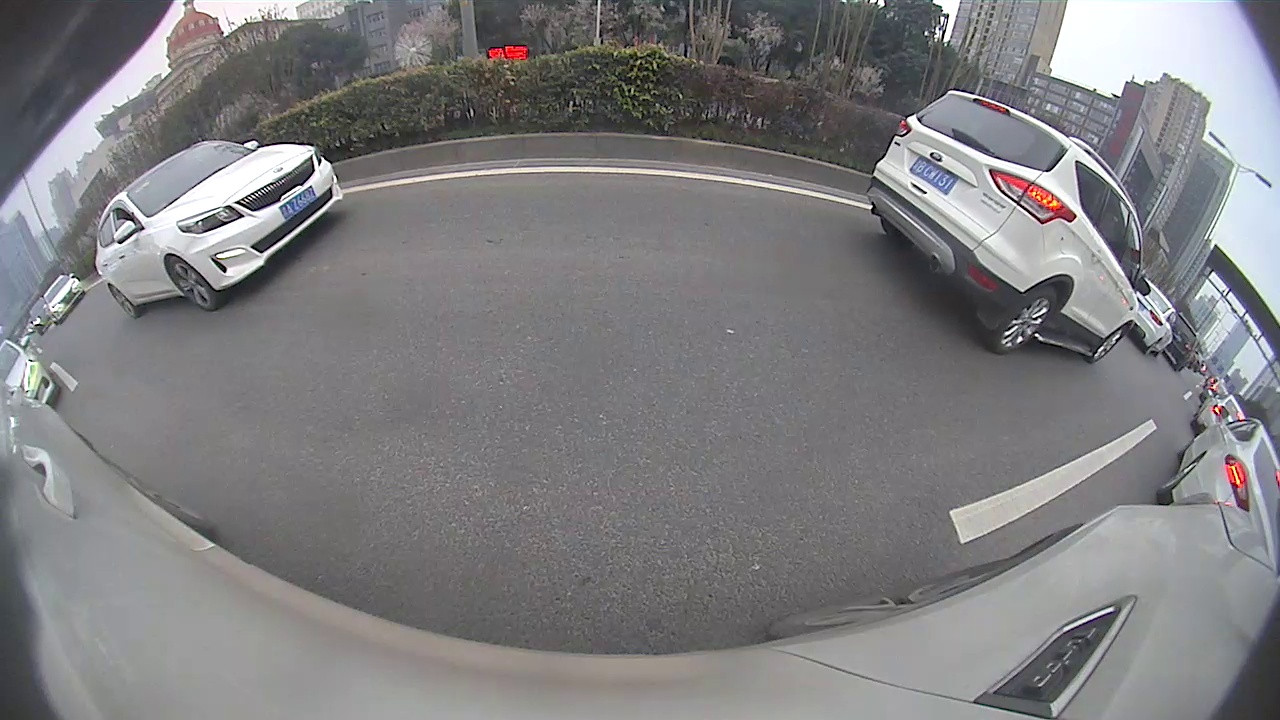car: (863, 85, 1154, 367), (91, 136, 345, 319), (1156, 406, 1279, 544), (0, 334, 63, 407), (1133, 276, 1178, 358)
front: (169, 255, 218, 312), (1091, 327, 1129, 363)
rear: (995, 285, 1059, 354), (109, 284, 138, 319)
